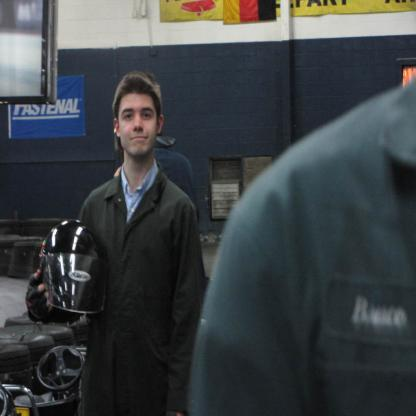Helmet: (39, 216, 108, 322)
